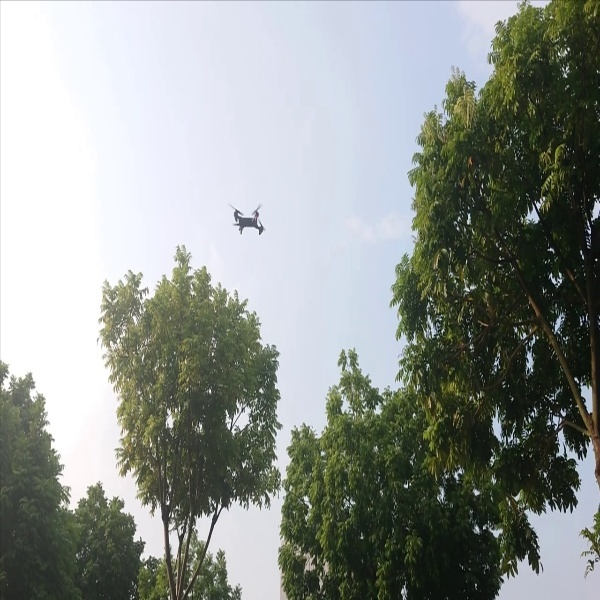drone: (219, 190, 275, 246)
